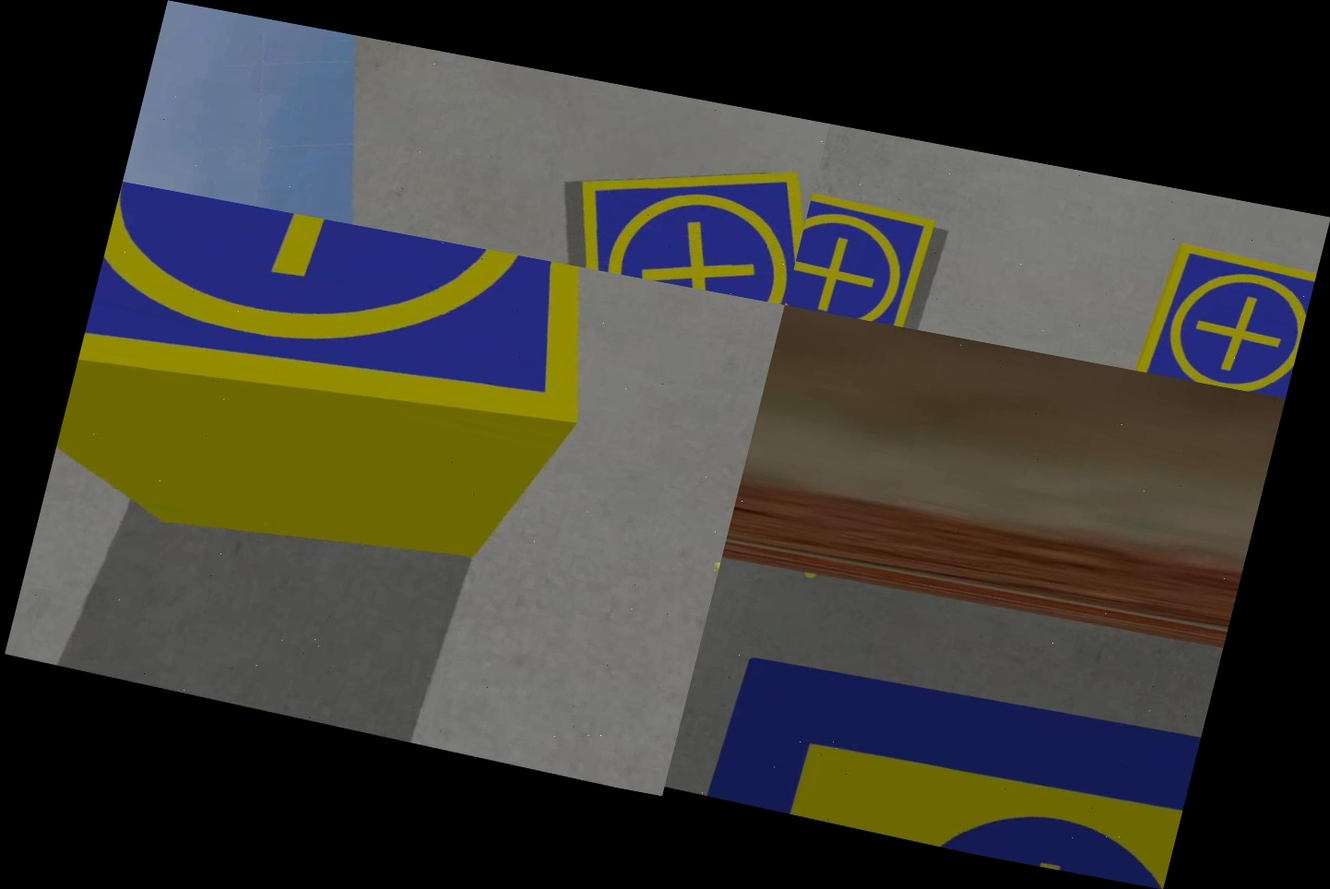large_base: (703, 633, 1205, 889)
small_base: (66, 182, 631, 499), (552, 127, 818, 305), (1128, 235, 1318, 398), (785, 188, 945, 329)
